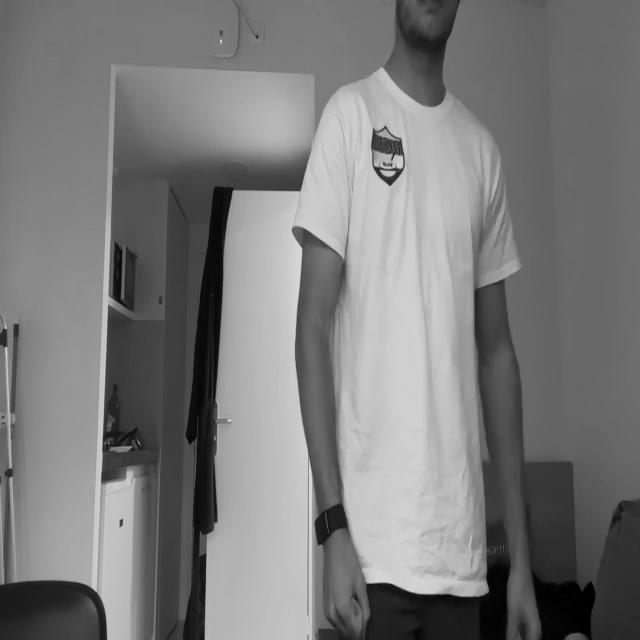elbow: (477, 336, 519, 396), (292, 311, 330, 372)
hand: (323, 523, 368, 638), (506, 565, 540, 640)
shoulder: (315, 87, 362, 171), (471, 129, 505, 220)
